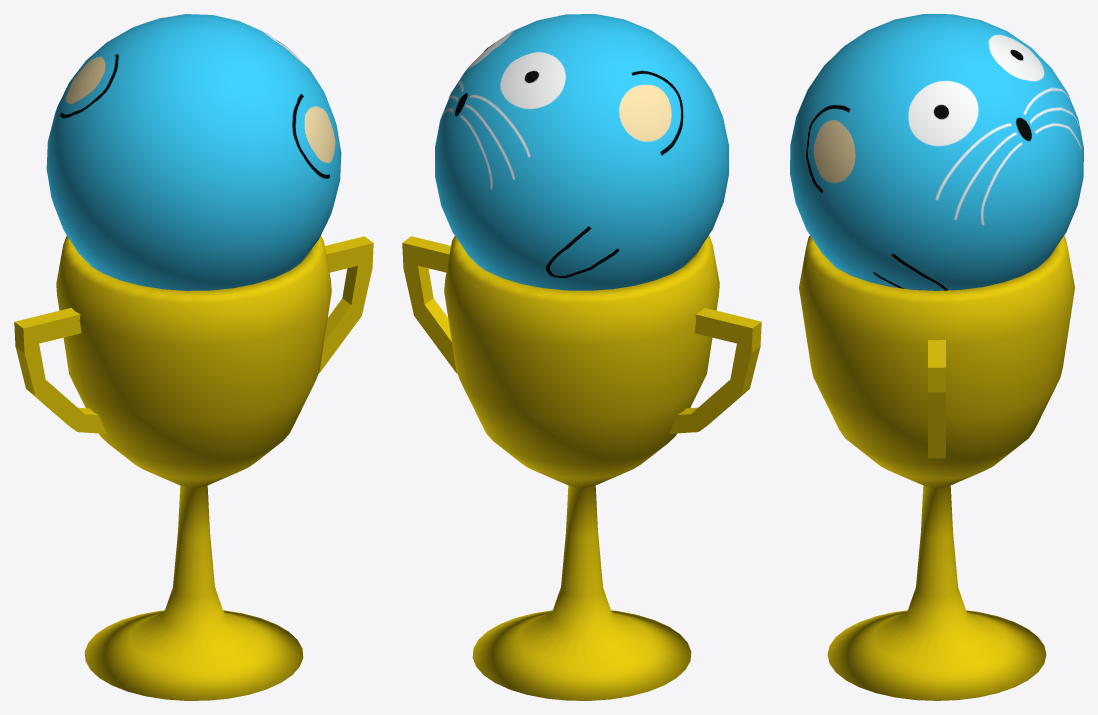
The model's file is trophy.glb.
3 views of the same model, side by side, from view 1: azimuth 30°, elevation 25°; view 2: azimuth 150°, elevation 25°; view 3: azimuth 270°, elevation 25° (orthographic).
Visible parts, largest first — view 1: Sphere, Cylinder, Cube; view 2: Sphere, Cylinder, Cube; view 3: Sphere, Cylinder, Cube.
Boxes of the visible parts, <box> form: Sphere: <box>46,14,341,290</box>; Cylinder: <box>56,235,331,700</box>; Cube: <box>14,236,373,433</box>; Sphere: <box>435,14,728,290</box>; Cylinder: <box>444,235,719,700</box>; Cube: <box>402,236,761,433</box>; Sphere: <box>790,14,1083,290</box>; Cylinder: <box>799,235,1074,700</box>; Cube: <box>928,340,945,458</box>.
Size of the model in its own units: 2.94 by 5.04 by 2.14.
2 materials, 1 textured.
